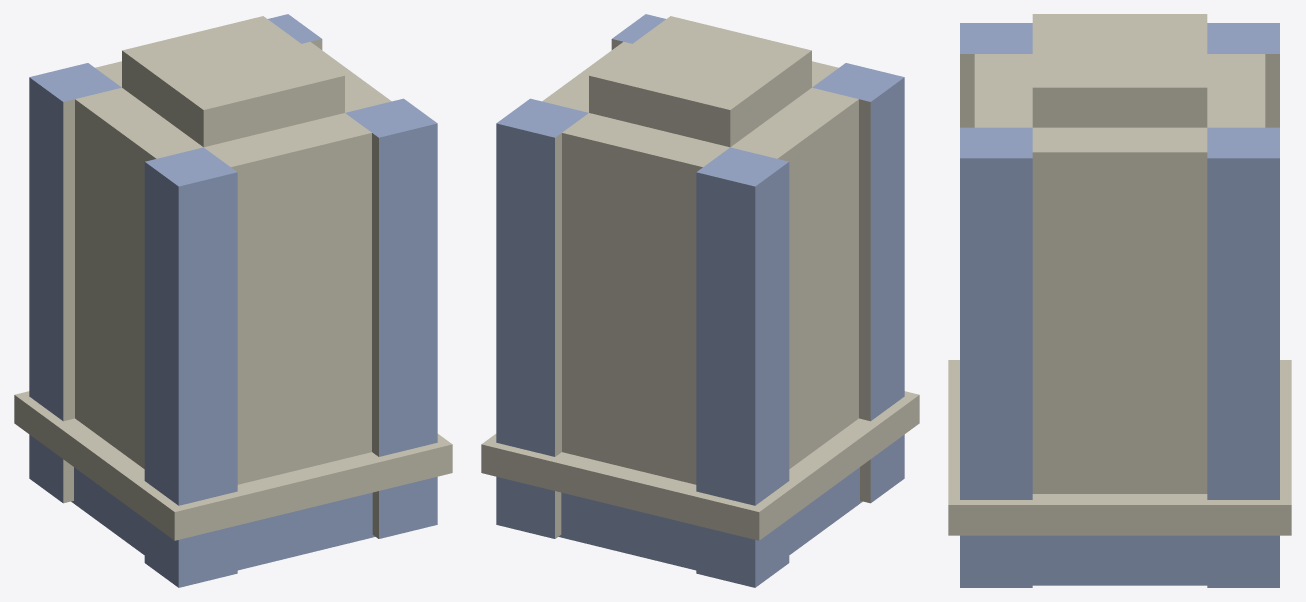
Rendered from building1.fbx.
The picture shows the model from 3 angles, left to right: view 1: azimuth 30°, elevation 25°; view 2: azimuth 150°, elevation 25°; view 3: azimuth 270°, elevation 25°; orthographic projection. The views are drawn at different scales.
Visible parts, largest first — view 1: building1; view 2: building1; view 3: building1.
Part boxes in pixels (left/top/right/bottom): building1: left=14, top=14, right=452, bottom=587; building1: left=481, top=14, right=919, bottom=587; building1: left=948, top=14, right=1291, bottom=587.
Bounding box in the file's own units: 3541 × 5378 × 3541.
